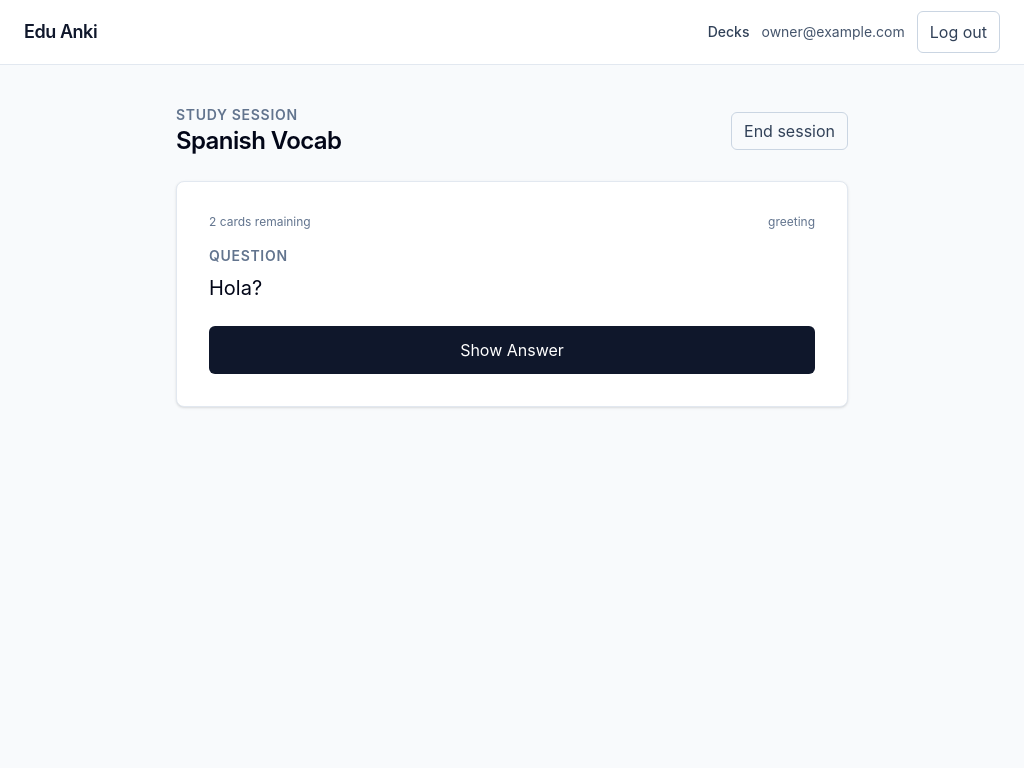
Test case: Study route › submits a rating optimistically and advances to the next card
Expected: the text "Hola?" is shown, [209, 276, 262, 300]
Click the button "Show Answer".
click(512, 350)  # box [209, 326, 815, 374]
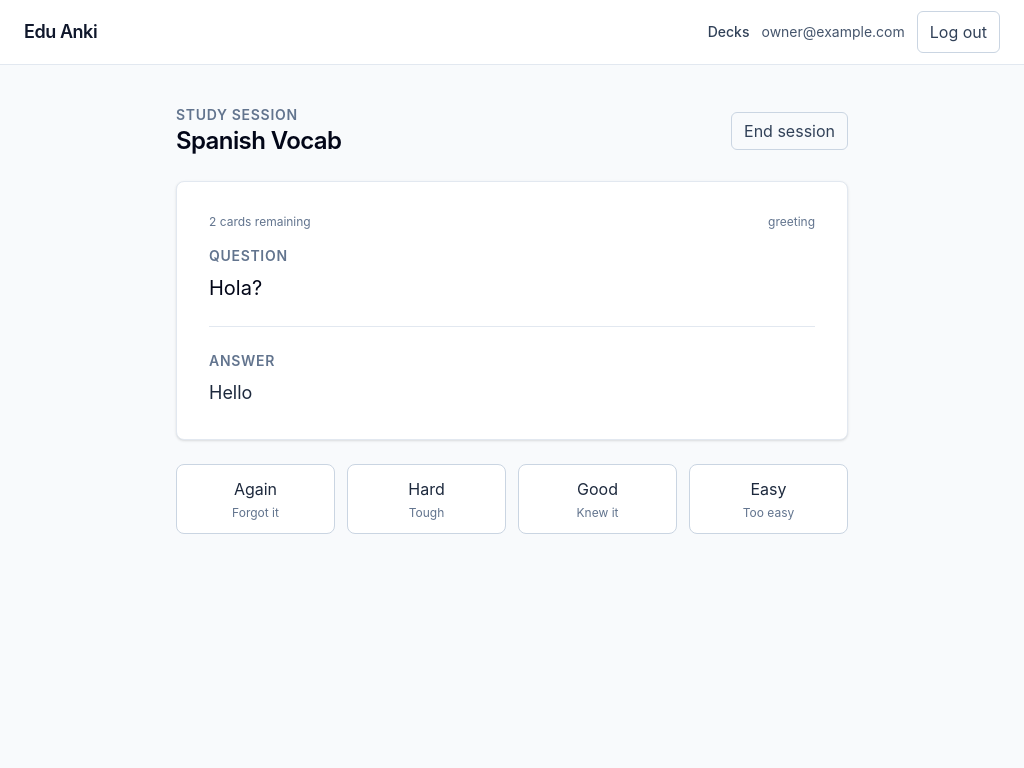
Click the button "Good Knew it".
click(598, 499)  # box [518, 464, 677, 534]
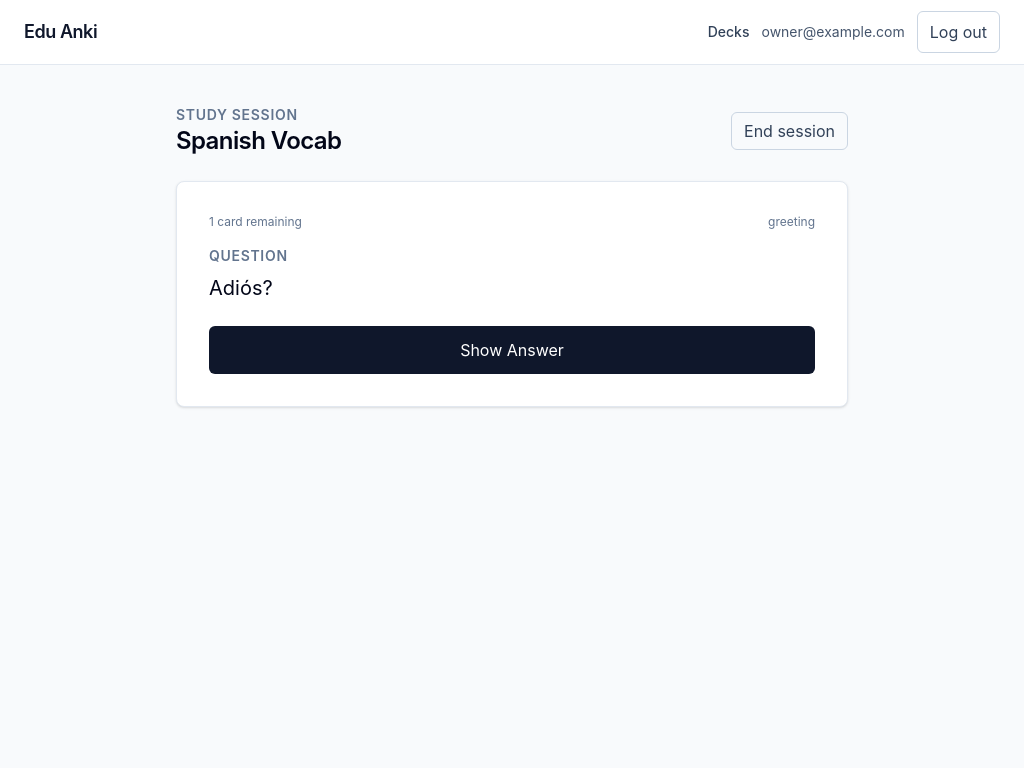
Result: the text "Adiós?" is shown at [209, 276, 273, 300]
